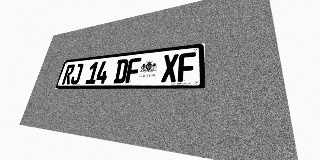1: (85, 62, 100, 84)
4: (95, 61, 110, 84)
D: (113, 59, 129, 83)
F: (177, 52, 196, 82), (125, 57, 141, 83)
J: (70, 63, 84, 84)
R: (62, 64, 75, 84)
X: (161, 54, 179, 82)
